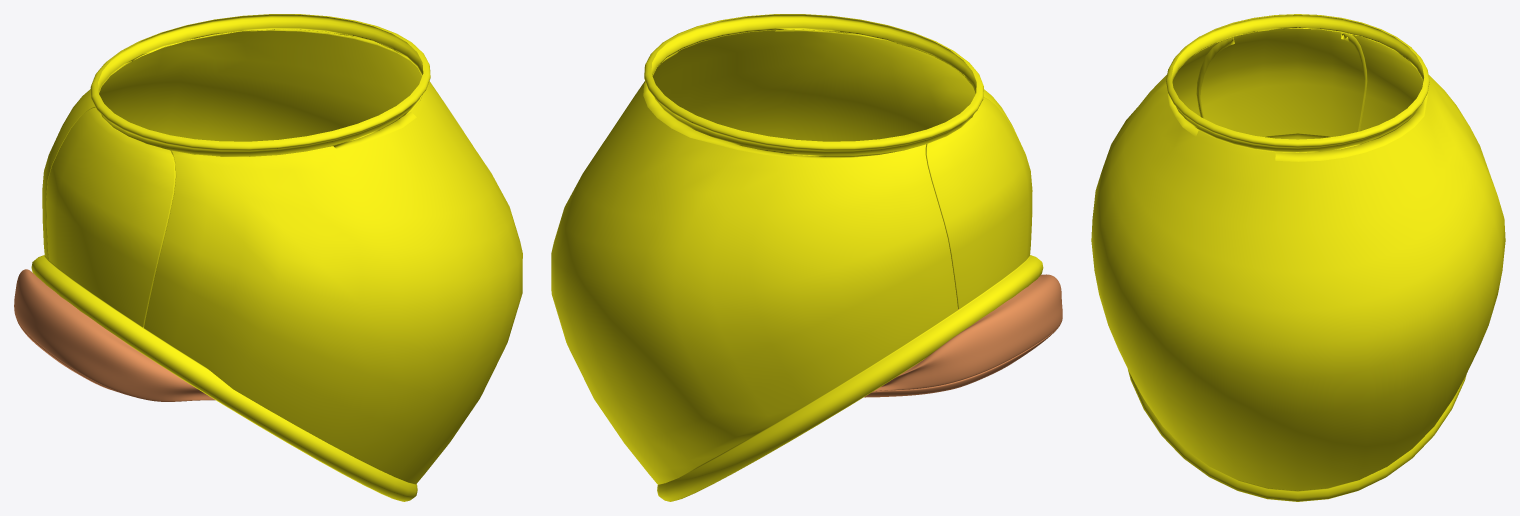
Rendered from poly_chair2.obj.
3 views of the same model, side by side, from view 1: azimuth 30°, elevation 25°; view 2: azimuth 150°, elevation 25°; view 3: azimuth 270°, elevation 25° (orthographic). The views are drawn at different scales.
Visible parts, largest first — view 1: Object001, cushion; view 2: Object001, cushion; view 3: Object001.
Part boxes in pixels (bbox=[...]): Object001: bbox=[31, 14, 522, 501]; cushion: bbox=[14, 269, 215, 401]; Object001: bbox=[551, 14, 1043, 501]; cushion: bbox=[864, 274, 1062, 397]; Object001: bbox=[1091, 14, 1505, 501].
Size of the model in its own units: 1.22 by 1.09 by 1.1.
